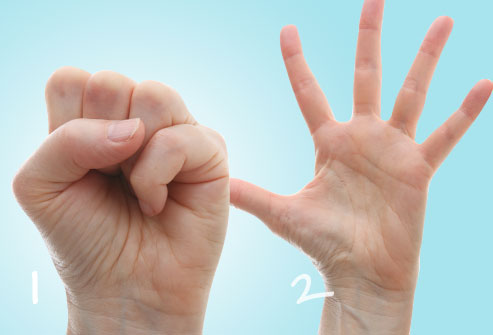finger: (388, 13, 460, 131), (129, 127, 222, 218), (273, 22, 338, 133), (121, 78, 183, 183), (419, 75, 491, 160), (87, 66, 127, 181), (357, 1, 382, 124), (43, 63, 83, 132)
